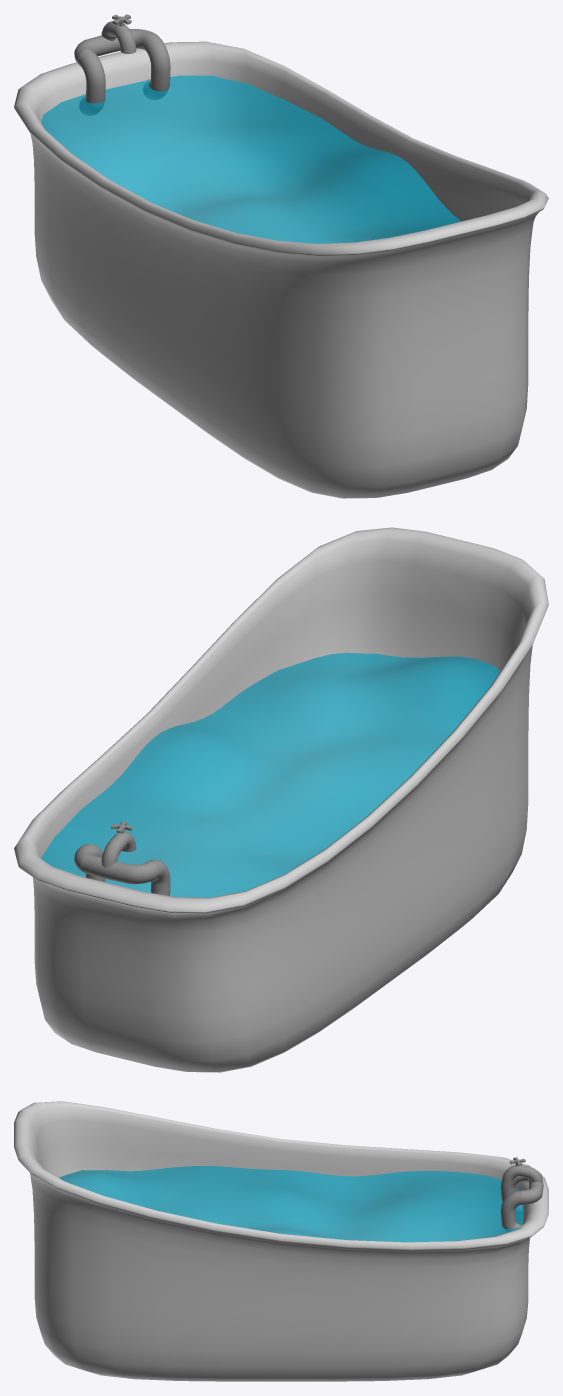
The model's file is Bath.fbx.
3 views of the same model, one above another, from view 1: azimuth 30°, elevation 25°; view 2: azimuth 150°, elevation 25°; view 3: azimuth 270°, elevation 25° (orthographic). The views are drawn at different scales.
Parts seen in each view (by area): view 1: Bathpart5, pPlane1, TapHead1; view 2: Bathpart5, pPlane1, TapHead1; view 3: Bathpart5, pPlane1, TapHead1.
Boxes of the visible parts, x1=… form: Bathpart5: x1=14, y1=41, x2=548, y2=498; pPlane1: x1=41, y1=75, x2=461, y2=243; TapHead1: x1=74, y1=14, x2=170, y2=115; Bathpart5: x1=14, y1=527, x2=548, y2=1072; pPlane1: x1=40, y1=652, x2=500, y2=897; TapHead1: x1=74, y1=821, x2=170, y2=895; Bathpart5: x1=14, y1=1101, x2=548, y2=1381; pPlane1: x1=59, y1=1166, x2=523, y2=1242; TapHead1: x1=500, y1=1157, x2=543, y2=1232.
Bounding box in the file's own units: 1.92 × 1.95 × 4.41.
